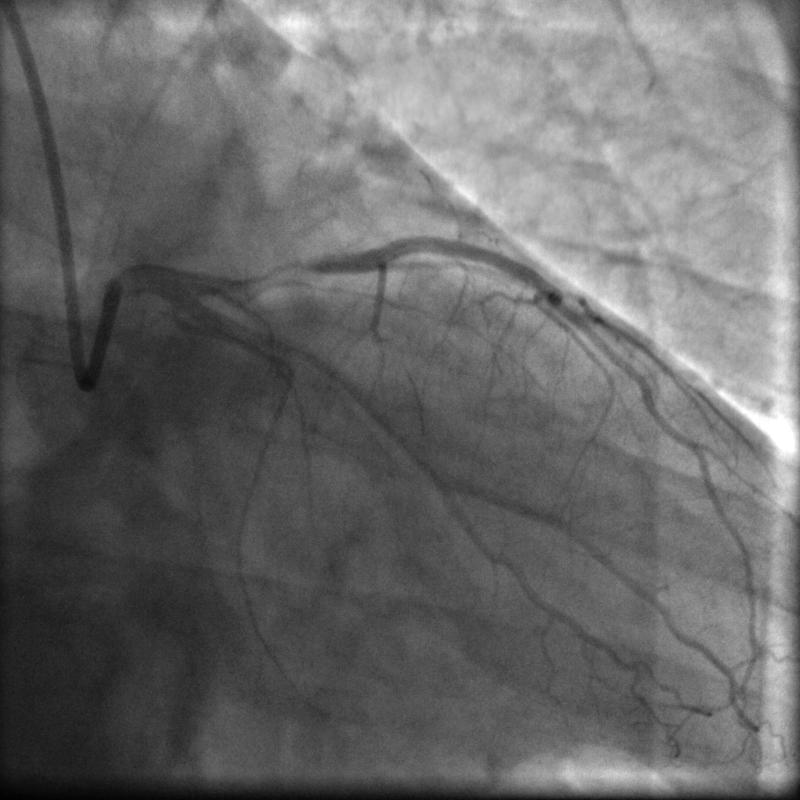Stenosis: (244, 255, 323, 286)
